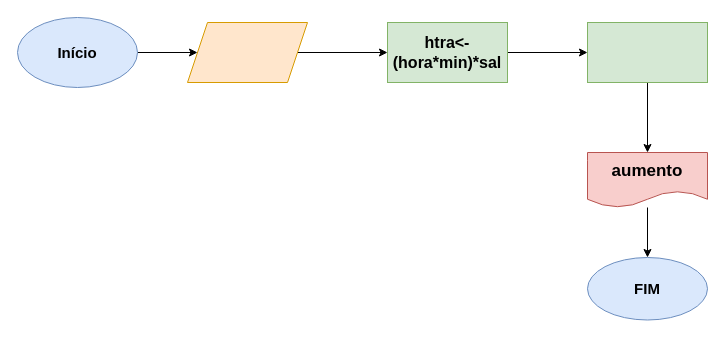
The diagram is 725 pixels wide and 338 high, and some of its shapes have lost their labels. Each missing label, with the centre of its shape:
"aumento<-(htra*70)/100" belongs at point 647,52.
"hora,min,sal" belongs at point 247,52.
